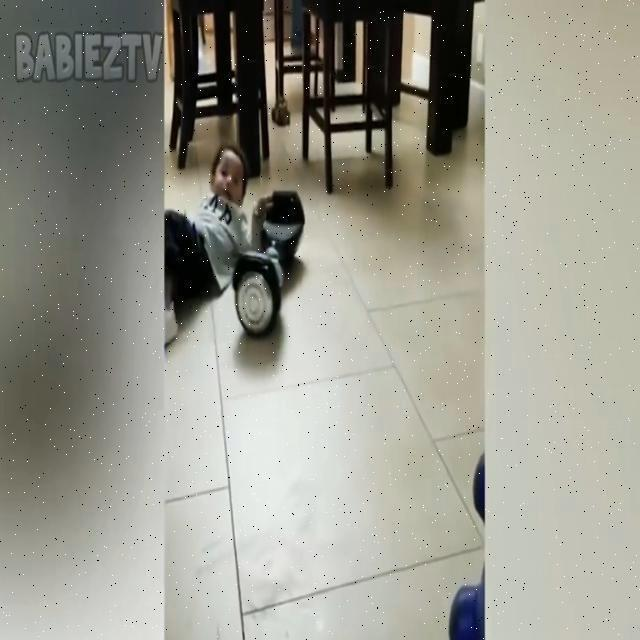child: (166, 137, 254, 353)
